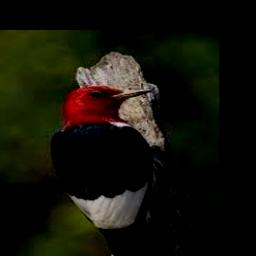Woodpecker: (47, 86, 169, 256)
